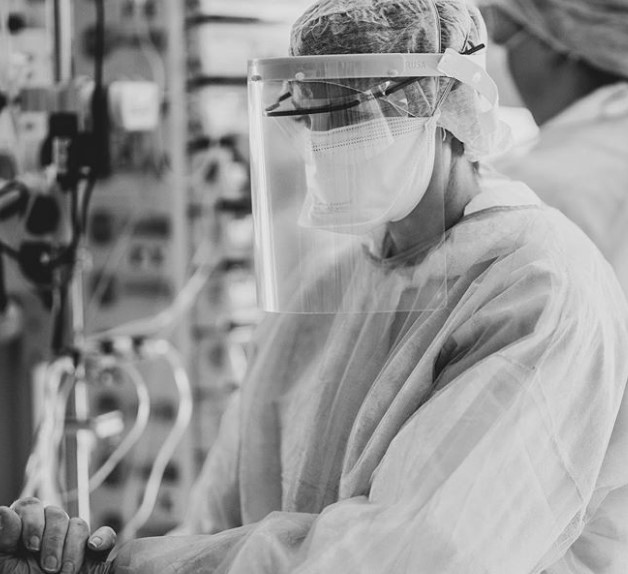face_with_mask: (239, 9, 512, 318)
